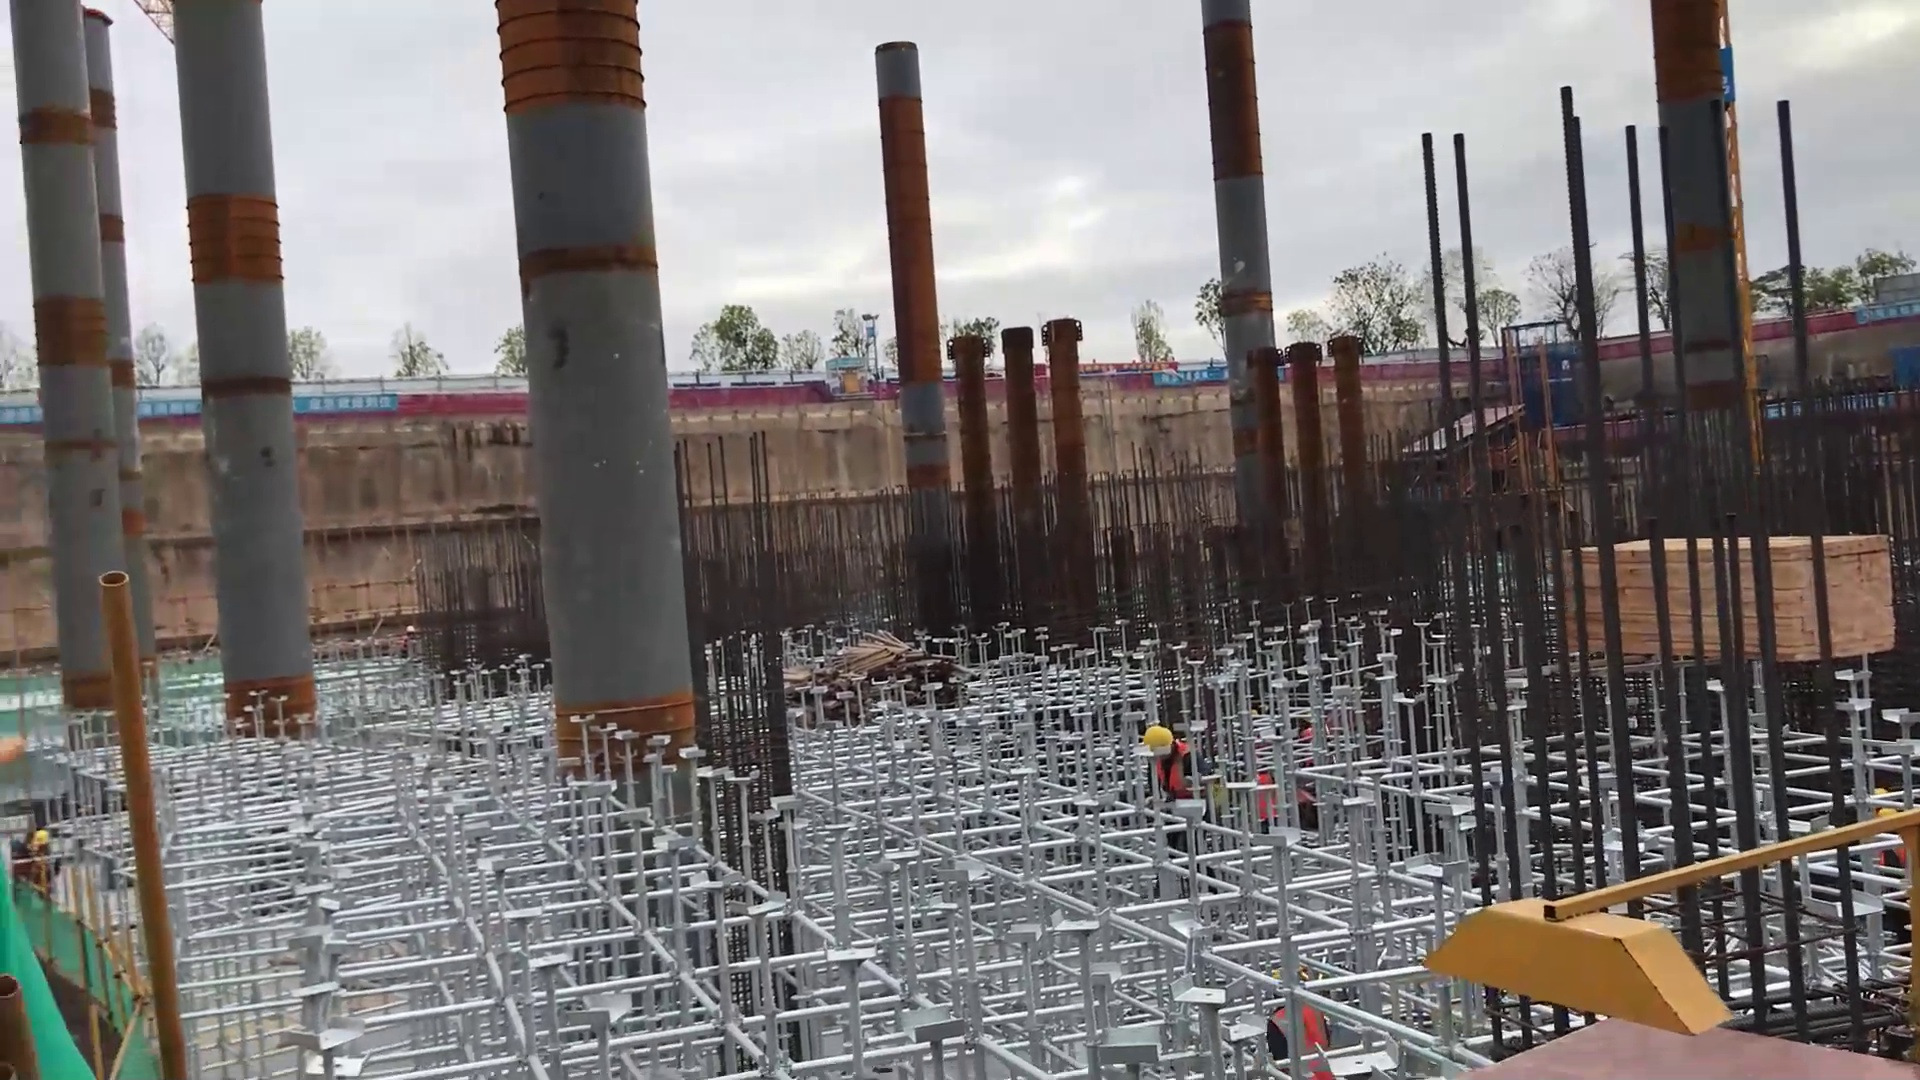helmet: (1139, 721, 1166, 762), (33, 826, 51, 853), (1879, 807, 1898, 823), (1875, 786, 1888, 798), (409, 624, 418, 635)
person: (1266, 962, 1338, 1078), (1874, 778, 1920, 896), (1146, 728, 1211, 803), (1247, 755, 1288, 830), (1304, 719, 1346, 778), (26, 829, 69, 889), (394, 617, 421, 658)
vest: (1274, 1003, 1331, 1070), (1162, 748, 1197, 793), (1254, 774, 1279, 822), (1307, 724, 1327, 764), (399, 636, 416, 655)
wood: (1543, 539, 1893, 666), (799, 634, 961, 701)
